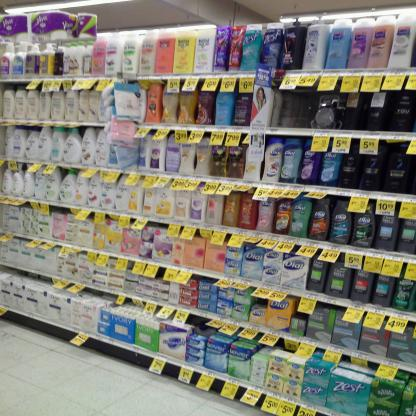Void: (284, 92, 316, 126)
